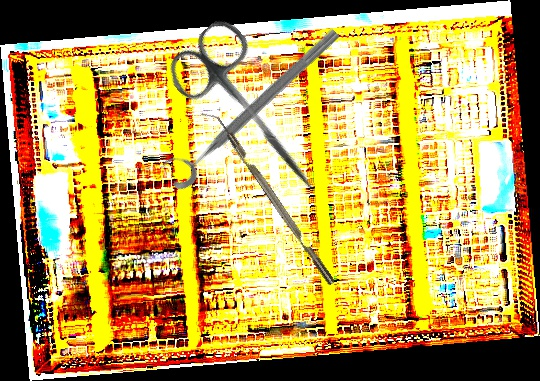Chopper: (200, 103, 336, 292)
Fixation Ring: (155, 14, 346, 194)
Iris Scissors: (159, 13, 347, 214)
